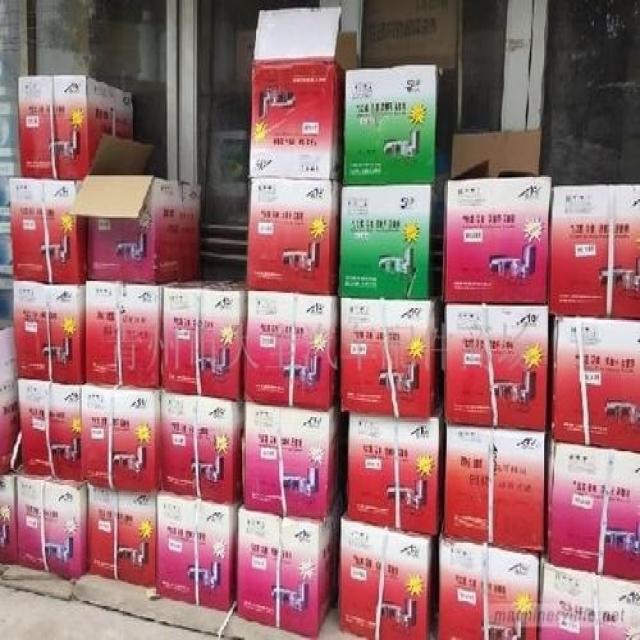box: (440, 129, 553, 305), (68, 140, 201, 288), (250, 5, 357, 180), (438, 301, 549, 431), (442, 414, 547, 551), (545, 432, 640, 579), (236, 504, 338, 638), (347, 405, 445, 536), (339, 296, 442, 419), (547, 315, 640, 451), (18, 73, 134, 182), (547, 184, 640, 318), (243, 402, 340, 523), (247, 175, 343, 296), (338, 518, 433, 640), (243, 293, 340, 412), (339, 184, 438, 300), (438, 534, 545, 640), (343, 66, 436, 186), (156, 489, 241, 613), (161, 277, 246, 400), (161, 391, 246, 507), (82, 381, 163, 494), (538, 551, 640, 640), (10, 175, 88, 286), (86, 283, 163, 390), (13, 279, 86, 386), (17, 471, 87, 580), (86, 483, 156, 589), (17, 378, 84, 483), (0, 318, 20, 477), (0, 470, 19, 565)
